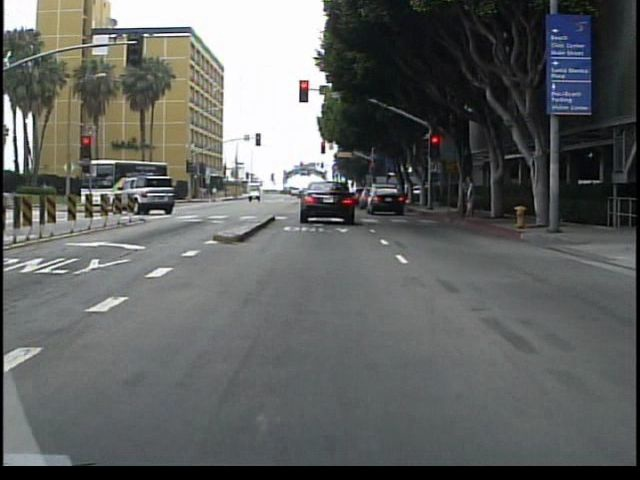person: (462, 169, 481, 219)
